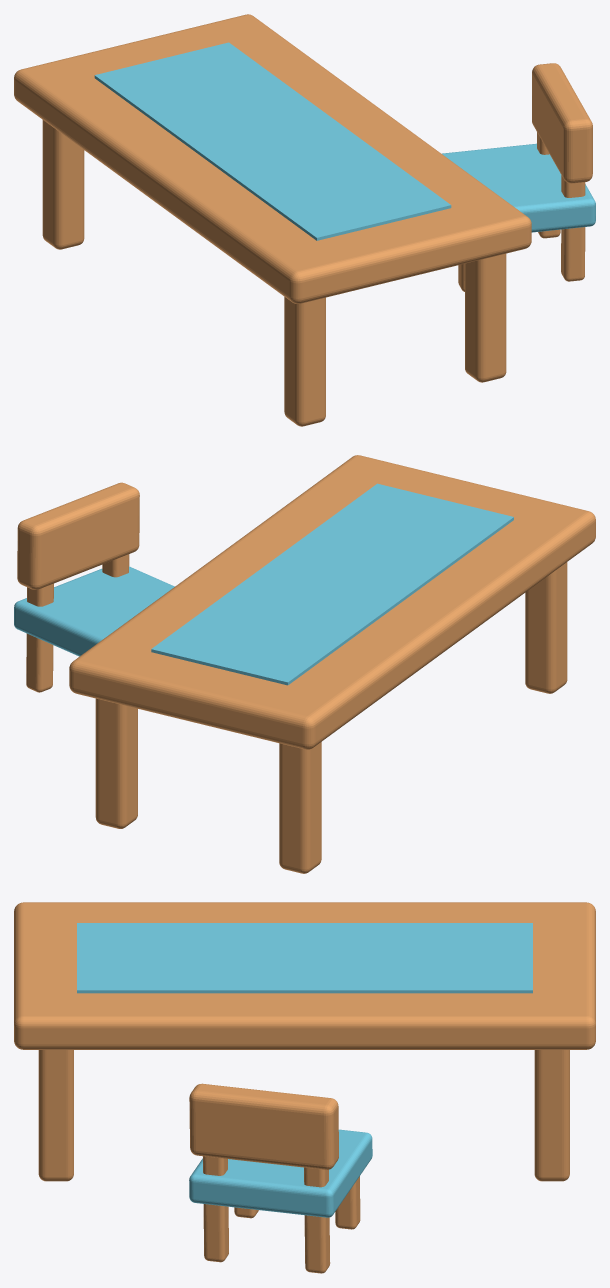
File: room.glb
3 renders of one model, top to bottom at view 1: azimuth 30°, elevation 25°; view 2: azimuth 150°, elevation 25°; view 3: azimuth 270°, elevation 25°, orthographic. The views are drawn at different scales.
Visible parts, largest first — view 1: Cube, Cube.004, Cube.006, Cube.001, Cube.005, Cube.002, Cube.007; view 2: Cube, Cube.006, Cube.004, Cube.002, Cube.003, Cube.001, Cube.008; view 3: Cube, Cube.006, Cube.004, Cube.003, Cube.005, Cube.007, Cube.008, Cube.010.
Part boxes in pixels (box(x1,y1,x2,y2)): Cube: box(14, 14, 531, 303); Cube.004: box(442, 143, 595, 232); Cube.006: box(532, 63, 592, 183); Cube.001: box(284, 297, 325, 426); Cube.005: box(465, 253, 506, 382); Cube.002: box(42, 120, 84, 249); Cube.007: box(561, 175, 585, 281); Cube: box(69, 455, 595, 749); Cube.006: box(17, 482, 139, 589); Cube.004: box(14, 566, 174, 656); Cube.002: box(279, 742, 321, 873); Cube.003: box(95, 698, 137, 828); Cube.001: box(525, 562, 567, 693); Cube.008: box(26, 583, 53, 692); Cube: box(14, 902, 595, 1049); Cube.006: box(189, 1083, 338, 1169); Cube.004: box(189, 1129, 372, 1217); Cube.003: box(534, 1050, 569, 1181); Cube.005: box(38, 1050, 73, 1181); Cube.007: box(203, 1156, 228, 1262); Cube.008: box(304, 1167, 330, 1273); Cube.010: box(335, 1176, 360, 1229).
Size of what is drawn, in the model's own units: 3.5 by 1.35 by 4.08.
